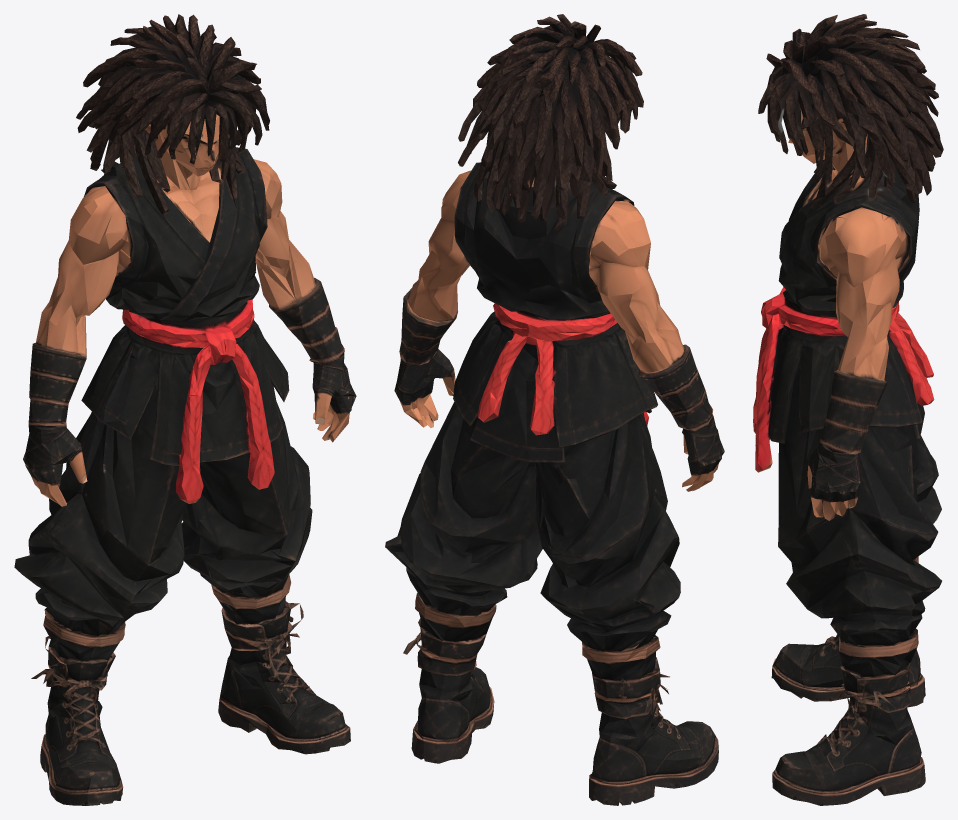
Rendered from kit-10k-test.glb.
The picture shows the model from 3 angles, left to right: view 1: azimuth 30°, elevation 25°; view 2: azimuth 150°, elevation 25°; view 3: azimuth 270°, elevation 25°; orthographic projection. The views are drawn at different scales.
Visible parts, largest first — view 1: output_unwrapped; view 2: output_unwrapped; view 3: output_unwrapped.
Part boxes in pixels (left/top/right/bottom): output_unwrapped: left=14, top=14, right=356, bottom=805; output_unwrapped: left=385, top=14, right=724, bottom=805; output_unwrapped: left=753, top=14, right=943, bottom=805.
Size of the model in its own units: 0.8682 by 1.9 by 0.4585.
1 material, 1 textured.
